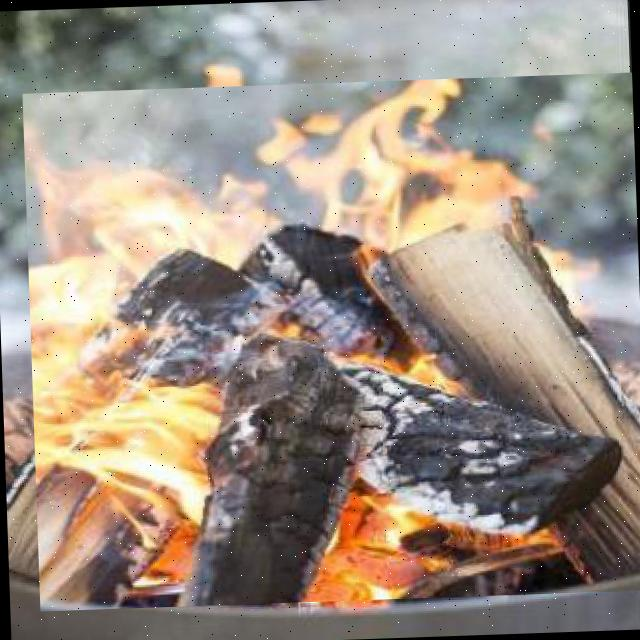fire: (22, 72, 640, 611)
